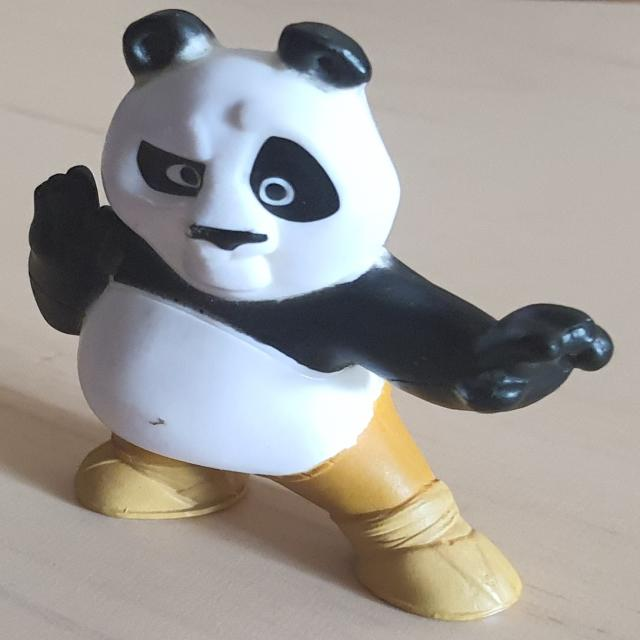Panda: (26, 8, 614, 622)
